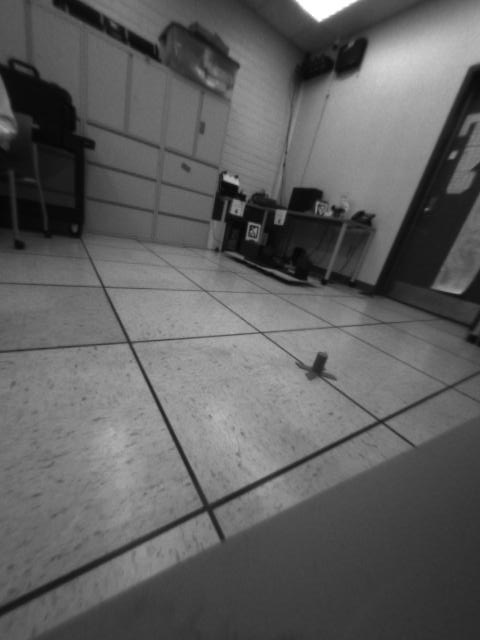X: (295, 350, 338, 383)
